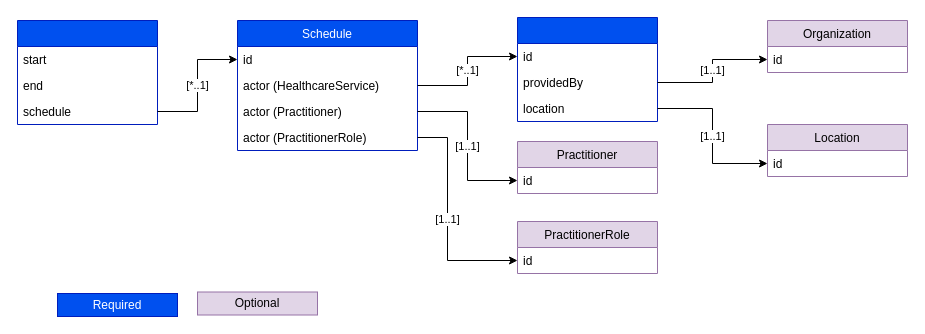
This 925x334 diagram has some shape labels left out. The box of each missing label's shape, as (x1, y1, x2, y2) in pixels:
HealthcareService: (516, 16, 658, 122)
Slot: (16, 20, 158, 124)
